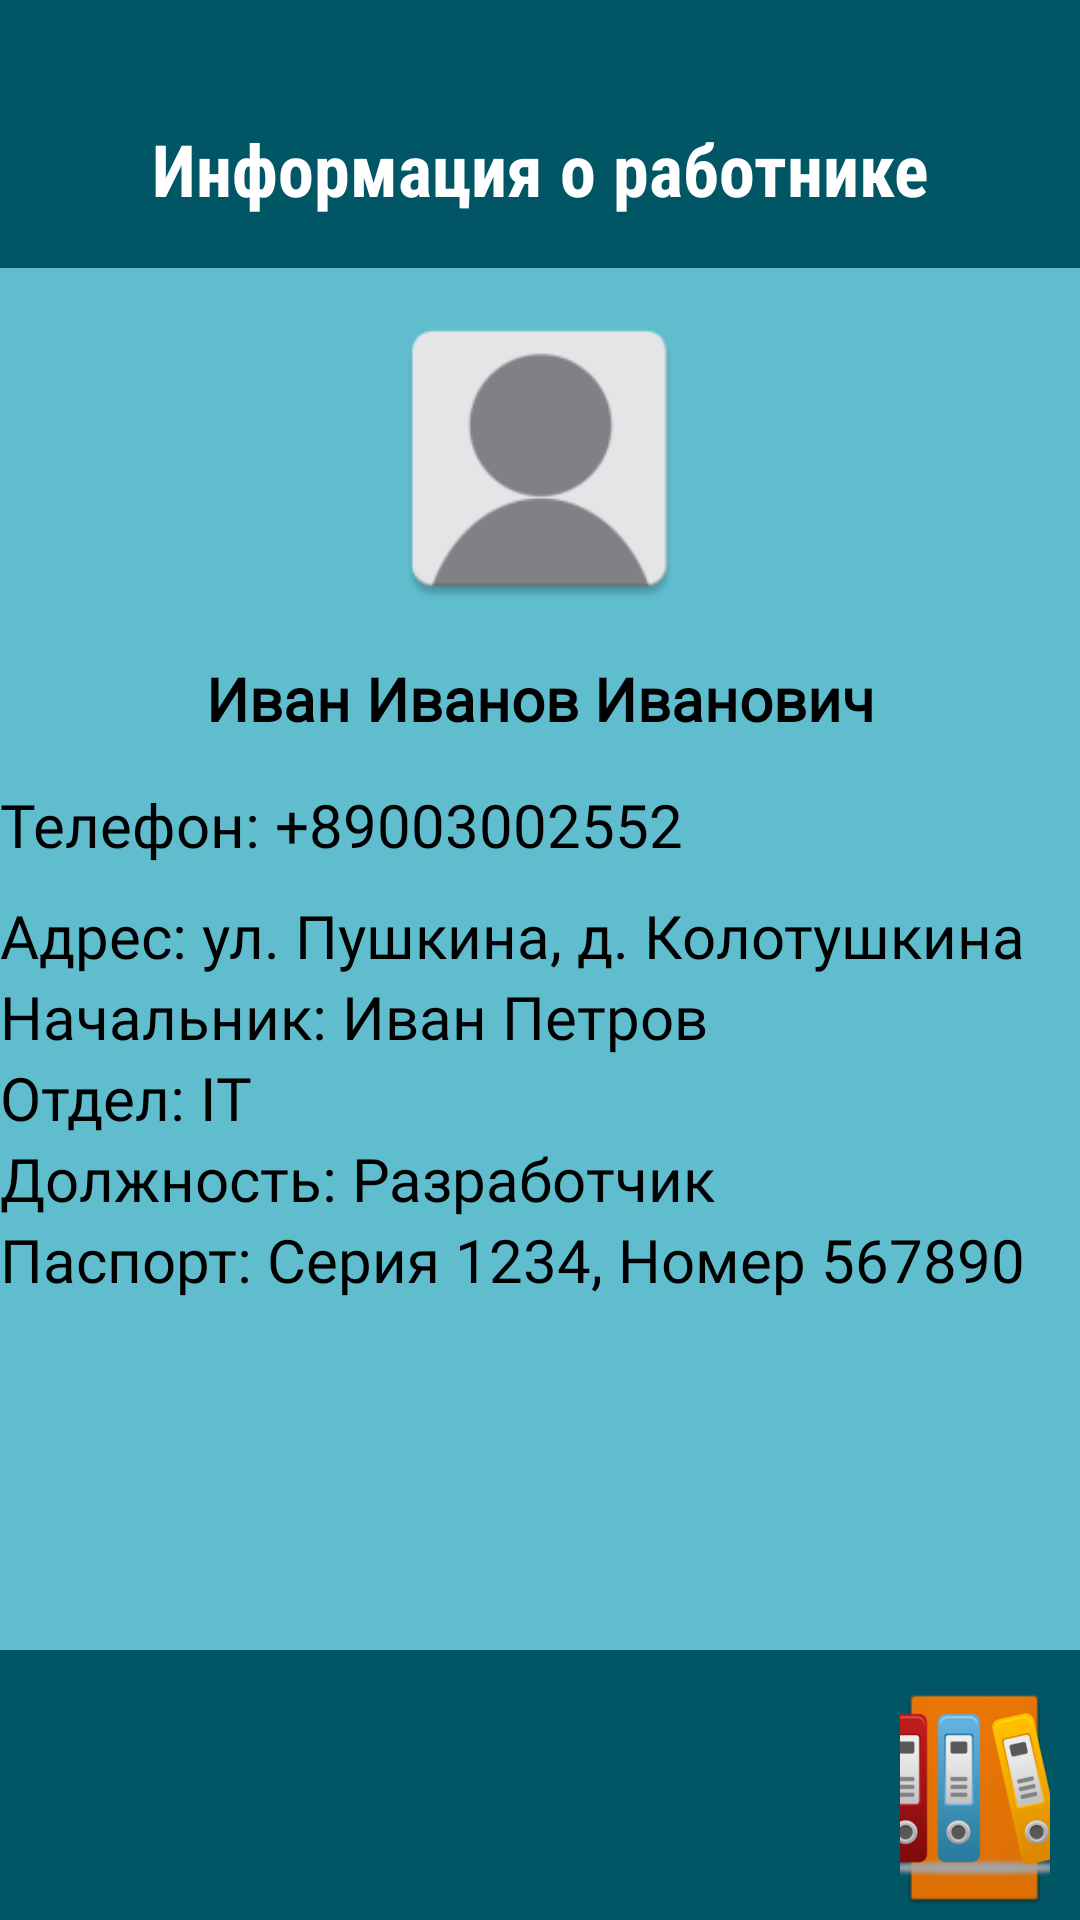

Where icons sit on this 1080 × 1920 app screen, as (x1, y1, x2, y2):
documents: (900, 1695, 1050, 1902)
